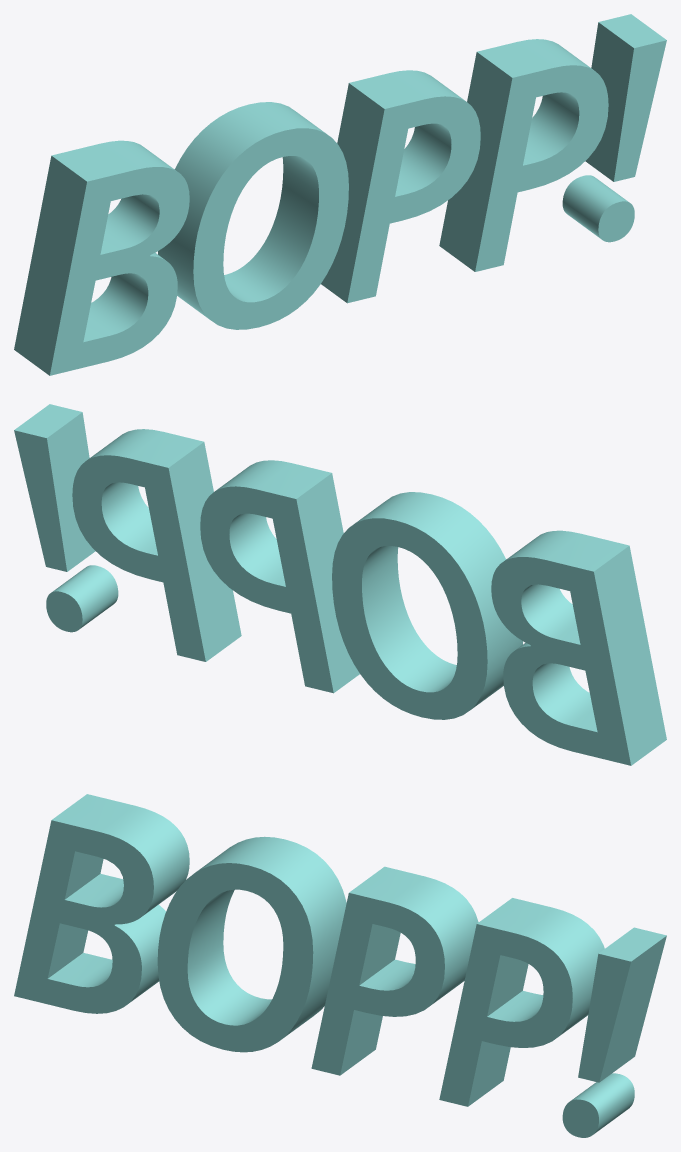
Rendered from Bopp_italic.gltf.
3 renders of one model, top to bottom at view 1: azimuth 30°, elevation 25°; view 2: azimuth 150°, elevation 25°; view 3: azimuth 330°, elevation 25°, orthographic.
Visible parts, largest first — view 1: P (×2), B, O, !; view 2: P (×2), B, O, !; view 3: P (×2), B, O, !.
Boxes of the visible parts, x1,y1,x2,y2 form: P (×2): [321, 39, 608, 303]; B: [14, 140, 189, 375]; O: [158, 102, 348, 329]; !: [562, 14, 666, 242]; P (×2): [72, 429, 359, 693]; B: [491, 530, 666, 765]; O: [332, 492, 522, 719]; !: [14, 404, 118, 632]; P (×2): [311, 866, 604, 1106]; B: [14, 794, 189, 1013]; O: [157, 836, 346, 1052]; !: [562, 927, 666, 1137].
Bounding box in the file's own units: 0.2491 × 0.0738 × 0.025.
